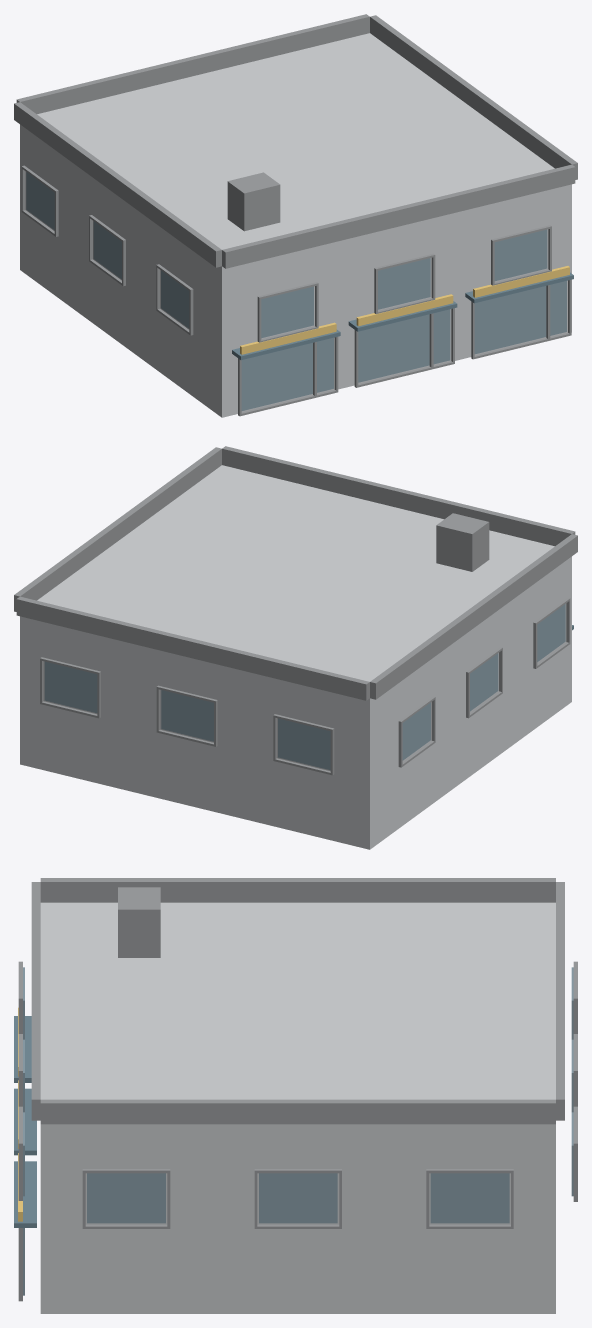
Rendered from commercial_2x2_a.glb.
The picture shows the model from 3 angles, top to bottom: view 1: azimuth 30°, elevation 25°; view 2: azimuth 150°, elevation 25°; view 3: azimuth 270°, elevation 25°; orthographic projection. The views are drawn at different scales.
Visible parts, largest first — view 1: commercial_2x2_a_0; view 2: commercial_2x2_a_0; view 3: commercial_2x2_a_0.
Part boxes in pixels (x1=…): commercial_2x2_a_0: x1=14, y1=14, x2=577, y2=417; commercial_2x2_a_0: x1=14, y1=446, x2=577, y2=849; commercial_2x2_a_0: x1=14, y1=878, x2=577, y2=1313.
Bounding box in the file's own units: 15.74 × 7.5 × 15.87.
